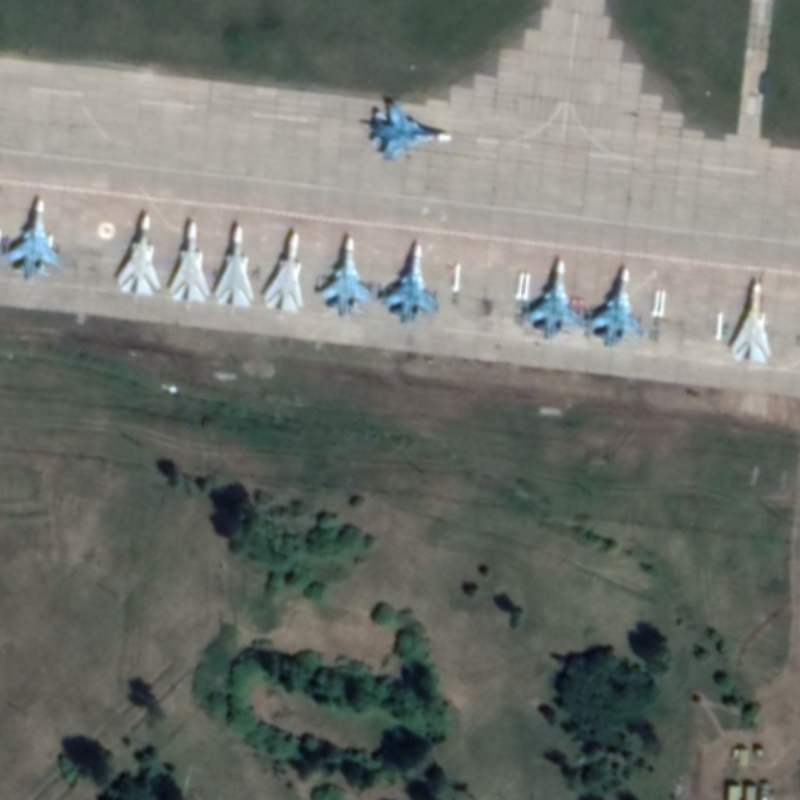A19: (358, 91, 456, 166), (514, 254, 586, 345), (310, 229, 373, 321), (375, 239, 442, 325), (585, 261, 649, 351), (2, 193, 65, 283)
A20: (721, 273, 781, 371), (110, 206, 166, 300), (259, 225, 308, 318), (213, 216, 259, 313), (166, 216, 212, 309)
